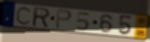5: (119, 14, 134, 37), (76, 11, 91, 32)
6: (99, 14, 116, 34)
C: (15, 6, 34, 26)
P: (55, 8, 73, 30)
R: (33, 6, 52, 29)
